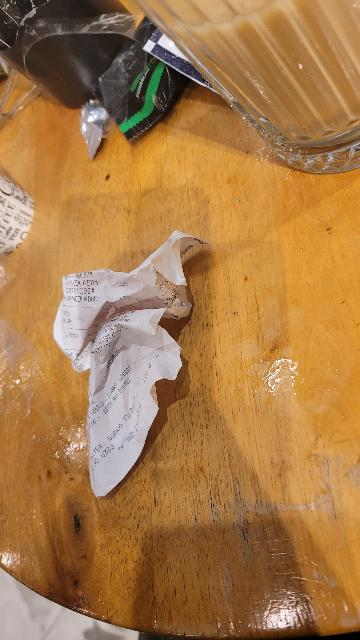Cam: (127, 0, 360, 179)
Kagit: (52, 222, 216, 495)
Plastik: (102, 25, 191, 149)
